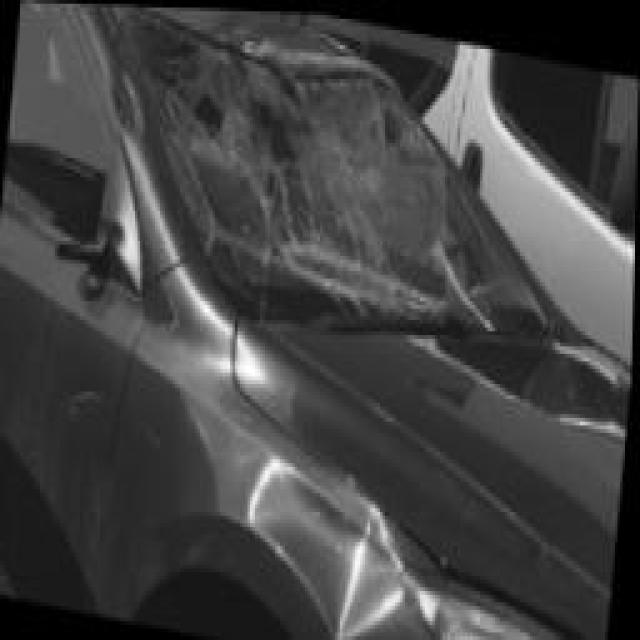Fender: (106, 361, 433, 640)
Windshield: (108, 4, 581, 334)
